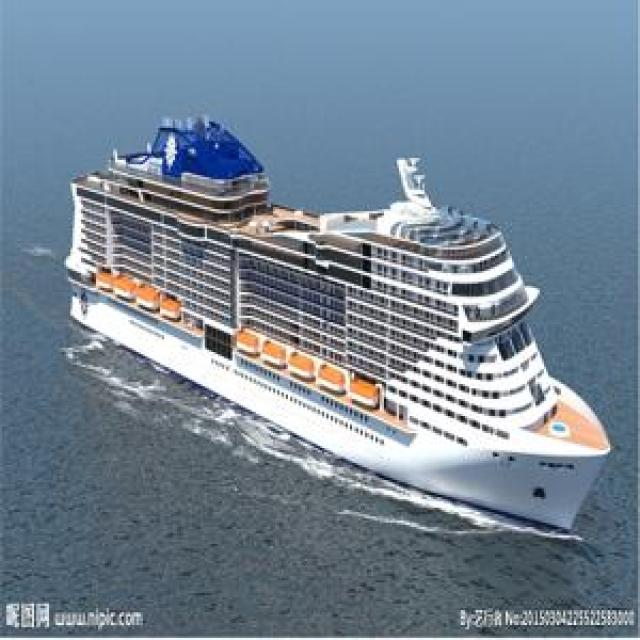passenger ship: (60, 95, 609, 547)
